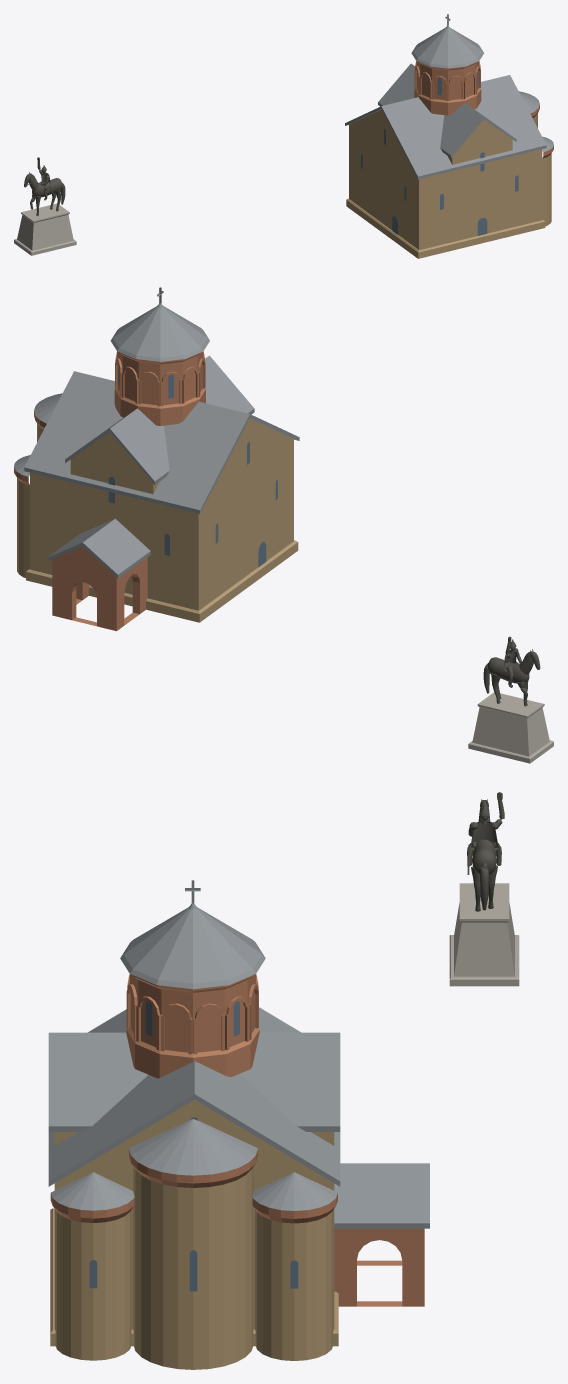
The model's file is tbilisi-metekhi-church.detail.glb.
3 renders of one model, top to bottom at view 1: azimuth 30°, elevation 25°; view 2: azimuth 150°, elevation 25°; view 3: azimuth 270°, elevation 25°, orthographic. The views are drawn at different scales.
Parts seen in each view (by area): view 1: Metekhi Church and the statue of Vakhtang Gorgasali; view 2: Metekhi Church and the statue of Vakhtang Gorgasali; view 3: Metekhi Church and the statue of Vakhtang Gorgasali.
Part boxes in pixels (x1,y1,x2,y2): Metekhi Church and the statue of Vakhtang Gorgasali: [14, 14, 553, 258]; Metekhi Church and the statue of Vakhtang Gorgasali: [14, 287, 553, 763]; Metekhi Church and the statue of Vakhtang Gorgasali: [48, 792, 519, 1369].
Size of the model in its own units: 58.24 by 25.6 by 26.97.
